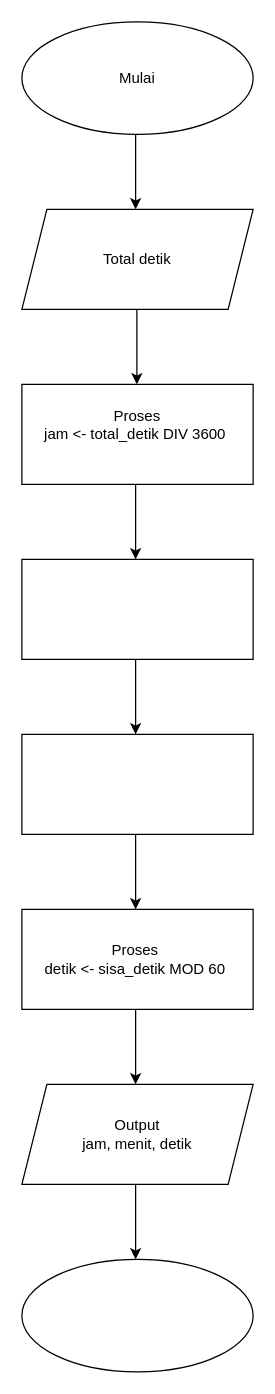
The diagram is 275 pixels wide and 1394 high, and some of its shapes have lost their labels. Each missing label, with the box of its shape:
Proses menit <- sisa_detik DIV 60: (21, 733, 253, 834)
Proses sisa_detik <- total_detik MOD 3600: (21, 558, 253, 659)
Selesai: (21, 1258, 253, 1372)
